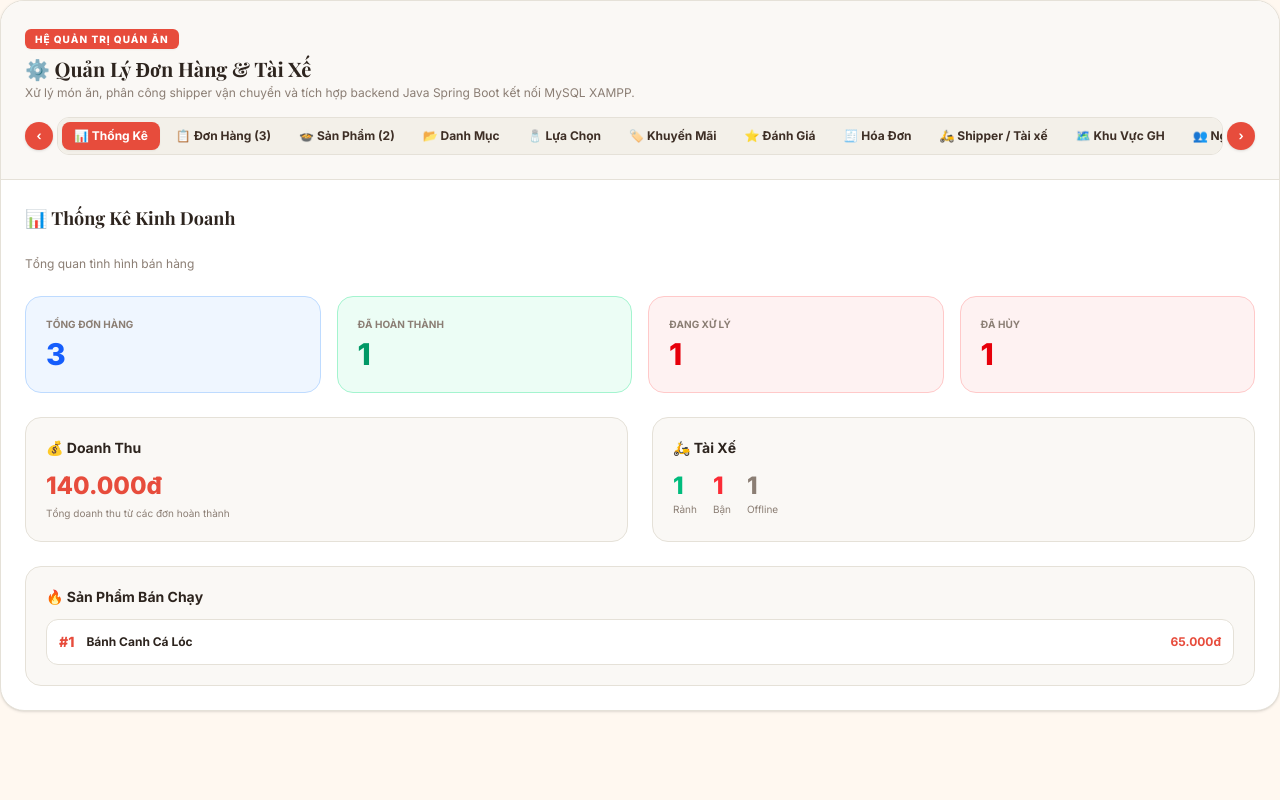
Scenario: AdminDashboard › Orders tab › switches to orders tab and renders orders
Click the button "📋 Đơn Hàng (3)".
click(224, 136)  # box [164,122,283,150]
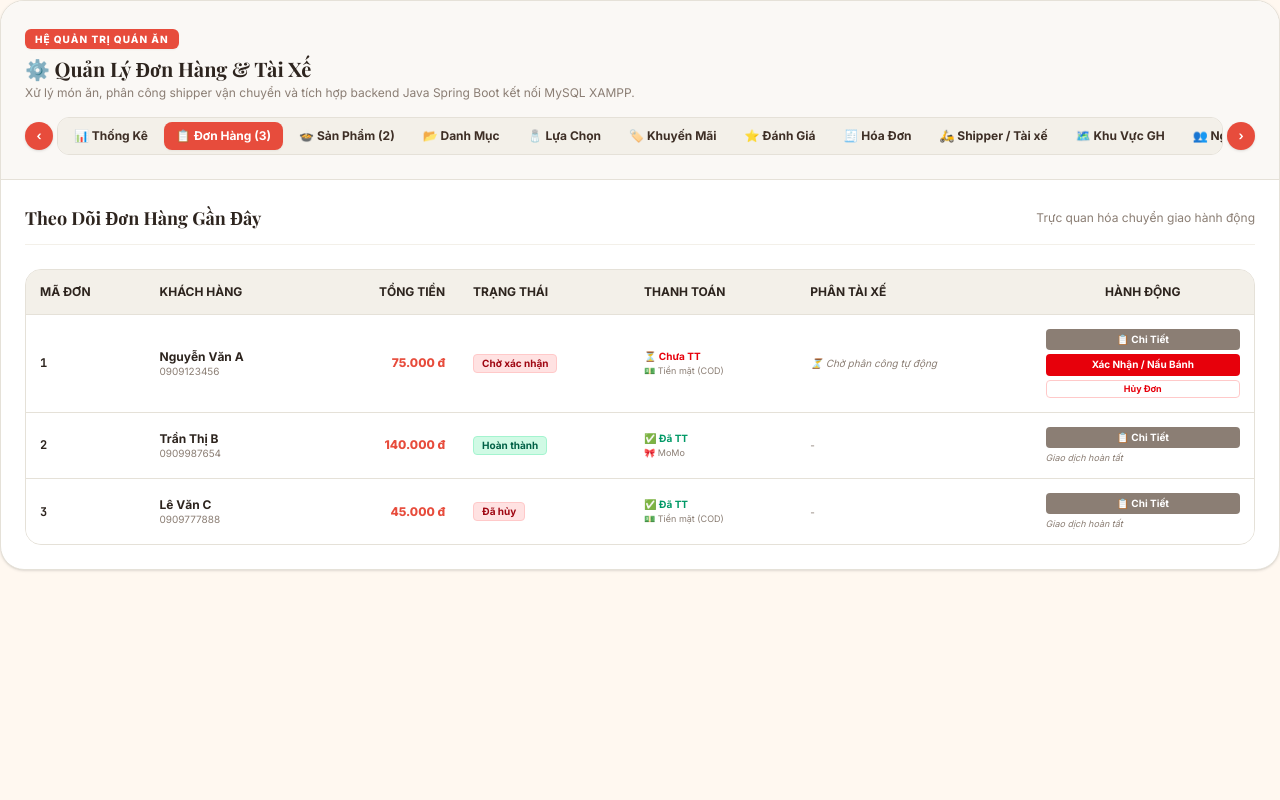
Check: the text "Nguyễn Văn A" is shown, box [160,349,244,364]
Check: the text "Trần Thị B" is shown, box [160,431,218,446]
Check: the text "Lê Văn C" is shown, box [160,497,211,512]
